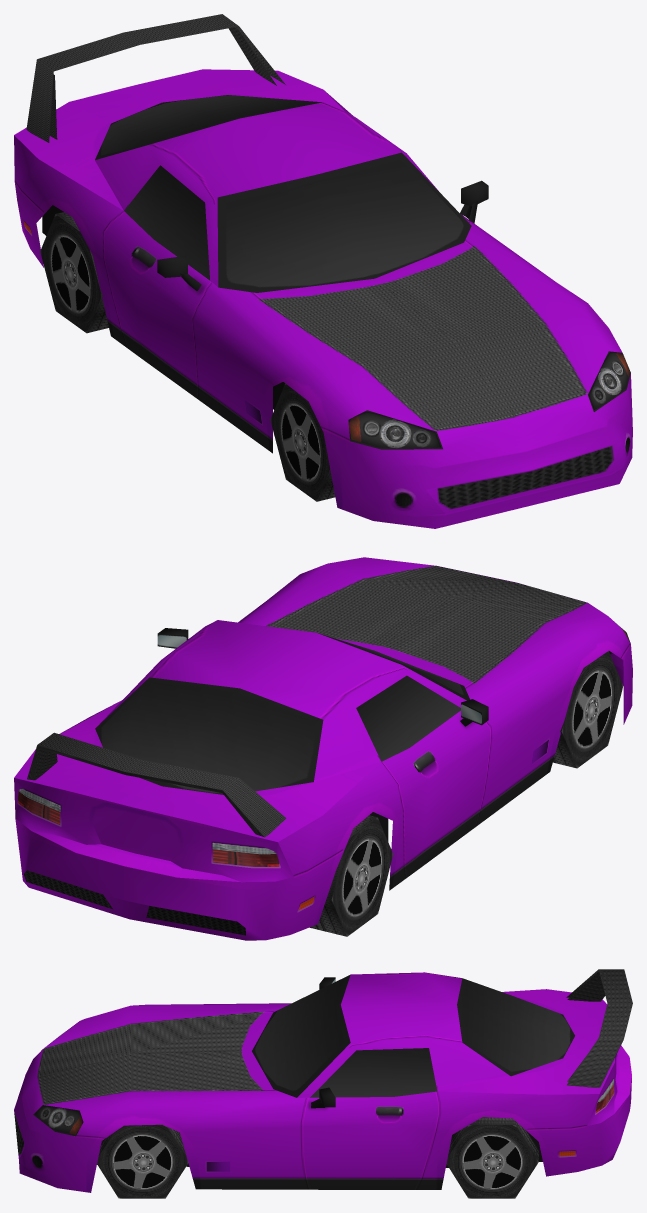
Rendered from ModernPerformanceCar_LOD2.fbx.
3 renders of one model, top to bottom at view 1: azimuth 30°, elevation 25°; view 2: azimuth 150°, elevation 25°; view 3: azimuth 270°, elevation 25°, orthographic. The views are drawn at different scales.
Visible parts, largest first — view 1: Chassis, RR_WHeel, RF_Wheel; view 2: Chassis, RR_WHeel, RF_Wheel; view 3: Chassis, LR_Wheel, LF_Wheel.
Part boxes in pixels (left/top/right/bottom): Chassis: left=14, top=14, right=632, bottom=528; RR_WHeel: left=40, top=212, right=108, bottom=333; RF_Wheel: left=270, top=383, right=335, bottom=501; Chassis: left=14, top=557, right=632, bottom=940; RR_WHeel: left=309, top=815, right=393, bottom=936; RF_Wheel: left=553, top=651, right=623, bottom=768; Chassis: left=14, top=969, right=632, bottom=1192; LR_Wheel: left=446, top=1117, right=538, bottom=1198; LF_Wheel: left=97, top=1124, right=188, bottom=1198.
Bounding box in the file's own units: 2.52 × 1.38 × 5.48.
Materials: 2 (2 with a texture image).
